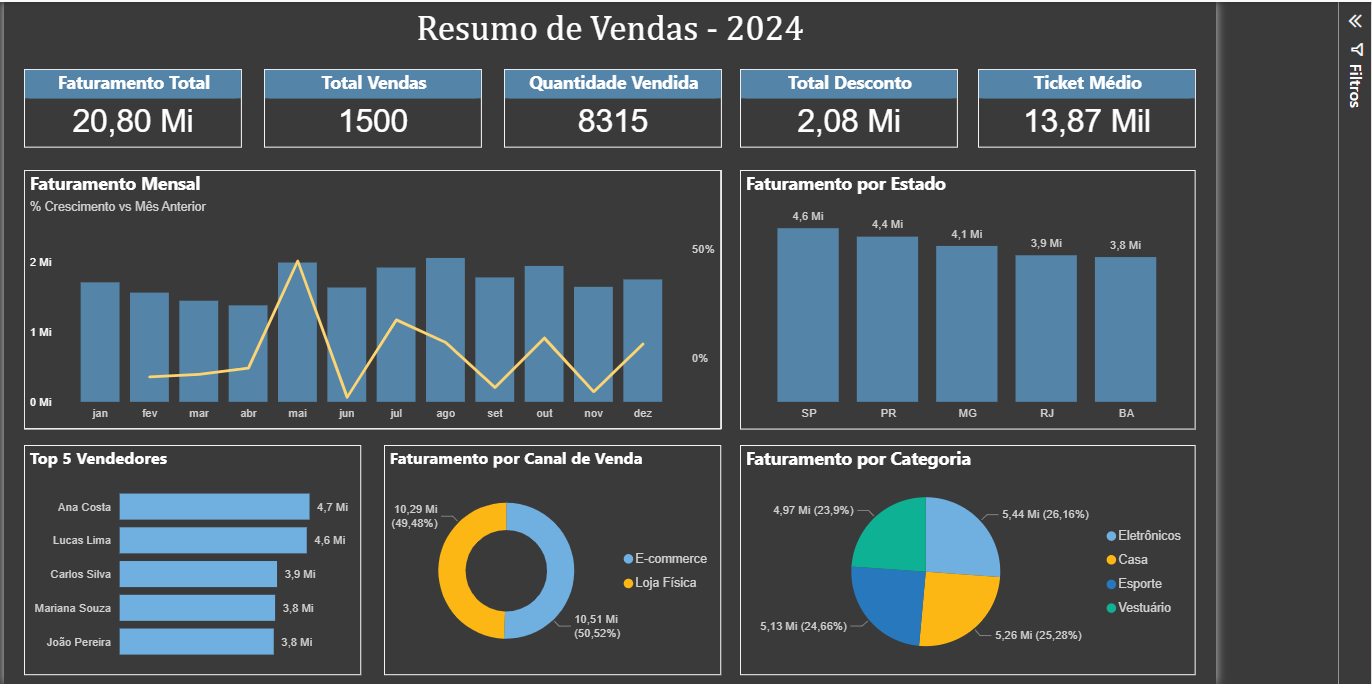

The page's visual inventory and layout, read from the dashboard file:
{"tool":"powerbi","page":{"name":"Página 2","canvas":[1280,720],"ordinal":1},"visuals":[{"type":"textbox","box":[0,0,1280,57.5],"z":0},{"type":"card","title":"Faturamento Total","fields":{"Values":["_Medidas.Total Bruto"]},"box":[21.2,71.2,230,82.5],"z":1000},{"type":"card","title":"Total Vendas","fields":{"Values":["_Medidas.Total Vendas"]},"box":[275,71.2,230,82.5],"z":2000},{"type":"card","title":"Quantidade Vendida","fields":{"Values":["_Medidas.Total prod vend"]},"box":[527.5,71.2,230,82.5],"z":3000},{"type":"card","title":"Total Desconto","fields":{"Values":["_Medidas.Total Desc"]},"box":[777.5,71.2,230,82.5],"z":4000},{"type":"card","title":"Ticket Médio","fields":{"Values":["_Medidas.Ticket Medio"]},"box":[1028.8,71.2,230,82.5],"z":5000},{"type":"lineStackedColumnComboChart","title":"Faturamento Mensal","fields":{"Category":["D_CALENDARIO.MesAbrev"],"Y2":["_Medidas.Crescimento MoM %"],"Y":["_Medidas.Total Bruto"]},"box":[21.2,177.5,736.2,273.8],"z":6000},{"type":"clusteredBarChart","title":"Top 5 Vendedores","fields":{"Category":["D_Vendedor.Vendedor"],"Y":["_Medidas.Total Bruto"]},"box":[21.2,467.5,356.2,242.5],"z":7000},{"type":"donutChart","title":"Faturamento por Canal de Venda","fields":{"Y":["_Medidas.Total Bruto"],"Category":["D_Canal_Venda.Canal_Venda"]},"box":[401.2,467.5,356.2,242.5],"z":8000},{"type":"columnChart","title":"Faturamento por Estado","fields":{"Y":["_Medidas.Total Bruto"],"Category":["D_UF.Estado"]},"box":[777.5,177.5,481.2,273.8],"z":9000},{"type":"pieChart","title":"Faturamento por Categoria","fields":{"Category":["D_Categoria.Categoria"],"Y":["_Medidas.Total Bruto"]},"box":[777.5,467.5,481.2,242.5],"z":10000}]}

Visuals, with their boxes on the page's 1280x720 design canvas (x1, y1, x2, y2). These are canvas units, not pixel positions in the 1372x684 screenshot, which may show the page scaled, cropped or inside an application window:
textbox: 0:0:1280:58
"Faturamento Total" card: 21:71:251:154
"Total Vendas" card: 275:71:505:154
"Quantidade Vendida" card: 528:71:758:154
"Total Desconto" card: 778:71:1008:154
"Ticket Médio" card: 1029:71:1259:154
"Faturamento Mensal" lineStackedColumnComboChart: 21:178:757:451
"Top 5 Vendedores" clusteredBarChart: 21:468:377:710
"Faturamento por Canal de Venda" donutChart: 401:468:757:710
"Faturamento por Estado" columnChart: 778:178:1259:451
"Faturamento por Categoria" pieChart: 778:468:1259:710
